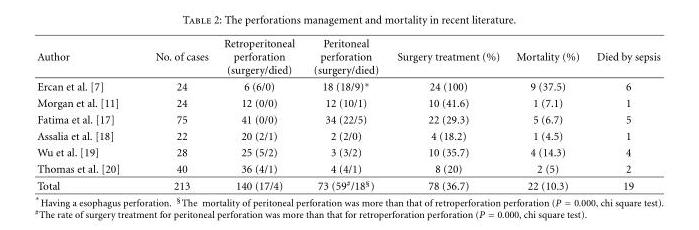table: (36, 37, 659, 191)
table column: (387, 37, 507, 191), (36, 37, 137, 191), (215, 37, 303, 191), (303, 37, 387, 191), (507, 37, 587, 191), (137, 37, 215, 191), (587, 37, 659, 191)
table column header: (36, 37, 659, 77)
table row: (36, 37, 659, 77), (36, 77, 659, 94), (36, 94, 659, 111), (36, 143, 659, 160), (36, 111, 659, 127), (36, 127, 659, 143), (36, 160, 659, 176), (36, 176, 659, 191)
